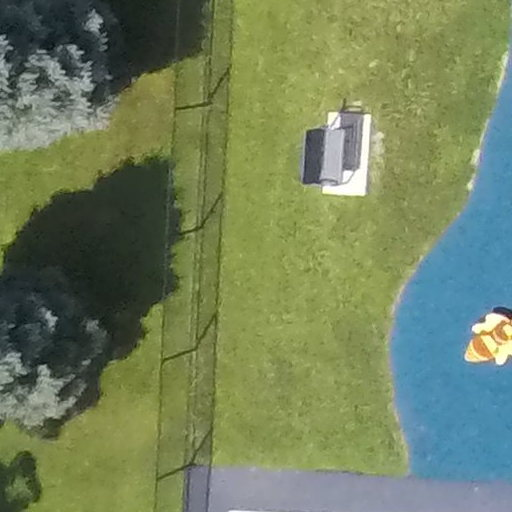bench: (294, 107, 359, 200)
fence: (144, 3, 242, 511)
